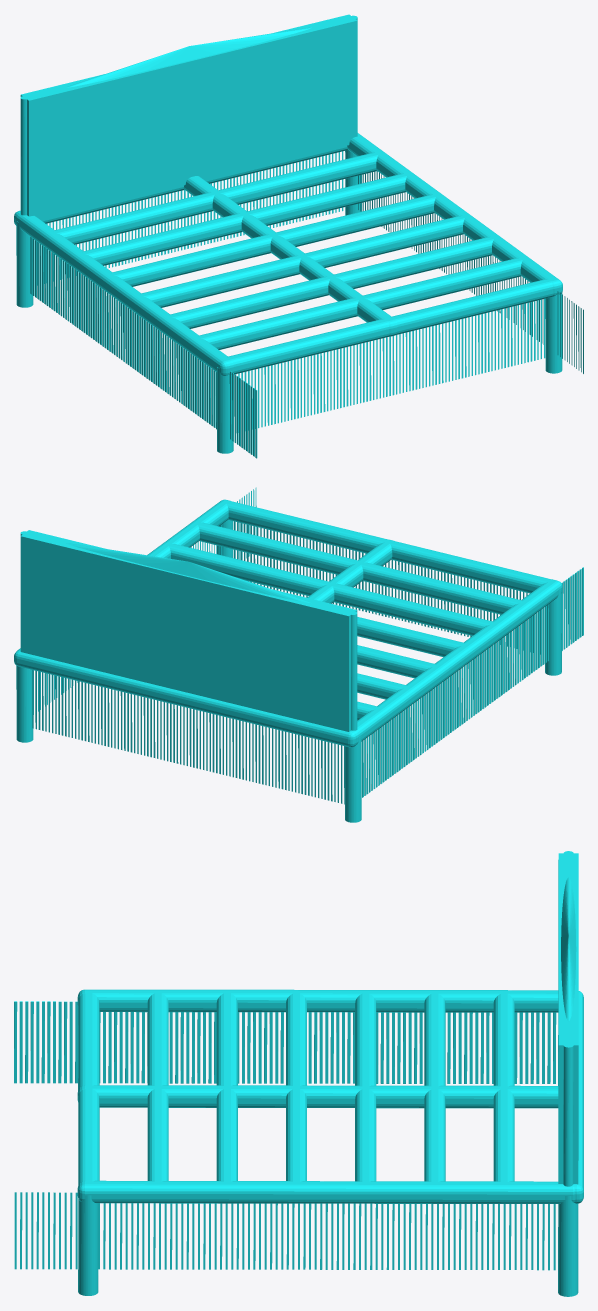
Rendered from bed_frame.glb.
The picture shows the model from 3 angles, top to bottom: view 1: azimuth 30°, elevation 25°; view 2: azimuth 150°, elevation 25°; view 3: azimuth 270°, elevation 25°; orthographic projection. The views are drawn at different scales.
Parts seen in each view (by area): view 1: grid_9, head board_11, cube_5, cube_7, cube_6, cube_8, head board_13, leg_4, leg_1, leg_2, head board_10; view 2: head board_11, grid_9, cube_5, cube_6, cube_7, head board_13, leg_1, leg_3, leg_2, cube_8, head board_10; view 3: grid_9, cube_5, cube_8, head board_11, leg_4, leg_3, head board_13, head board_12.
Boxes of the visible parts, box(x1,y1,x2,y2) form: grid_9: box(14, 133, 562, 375); head board_11: box(20, 14, 357, 219); cube_5: box(30, 237, 257, 458); cube_7: box(235, 299, 545, 432); cube_6: box(37, 151, 343, 285); cube_8: box(358, 171, 583, 373); head board_13: box(66, 27, 311, 87); leg_4: box(545, 293, 562, 373); leg_1: box(16, 221, 33, 307); leg_2: box(216, 367, 233, 453); head board_10: box(20, 96, 26, 215); head board_11: box(20, 530, 357, 731); grid_9: box(14, 499, 562, 747); cube_5: box(362, 567, 583, 797); cube_6: box(32, 670, 344, 804); cube_7: box(234, 521, 540, 654); head board_13: box(66, 543, 311, 603); leg_1: box(345, 736, 361, 822); leg_3: box(16, 665, 33, 742); leg_2: box(545, 589, 561, 675); cube_8: box(33, 487, 256, 714); head board_10: box(349, 611, 357, 730); grid_9: box(77, 989, 583, 1203); cube_5: box(14, 1001, 556, 1083); cube_8: box(14, 1192, 555, 1270); head board_11: box(558, 853, 578, 1184); leg_4: box(78, 1195, 98, 1295); leg_3: box(558, 1196, 578, 1296); head board_13: box(561, 877, 576, 1020); head board_12: box(563, 1045, 573, 1186).
Size of the model in its own units: 0.94 by 0.57 by 1.13.
